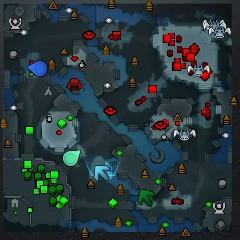p1: (27, 60, 48, 77)
p2: (63, 150, 81, 166)
x3: (94, 165, 110, 181)
x4: (137, 189, 155, 207)
